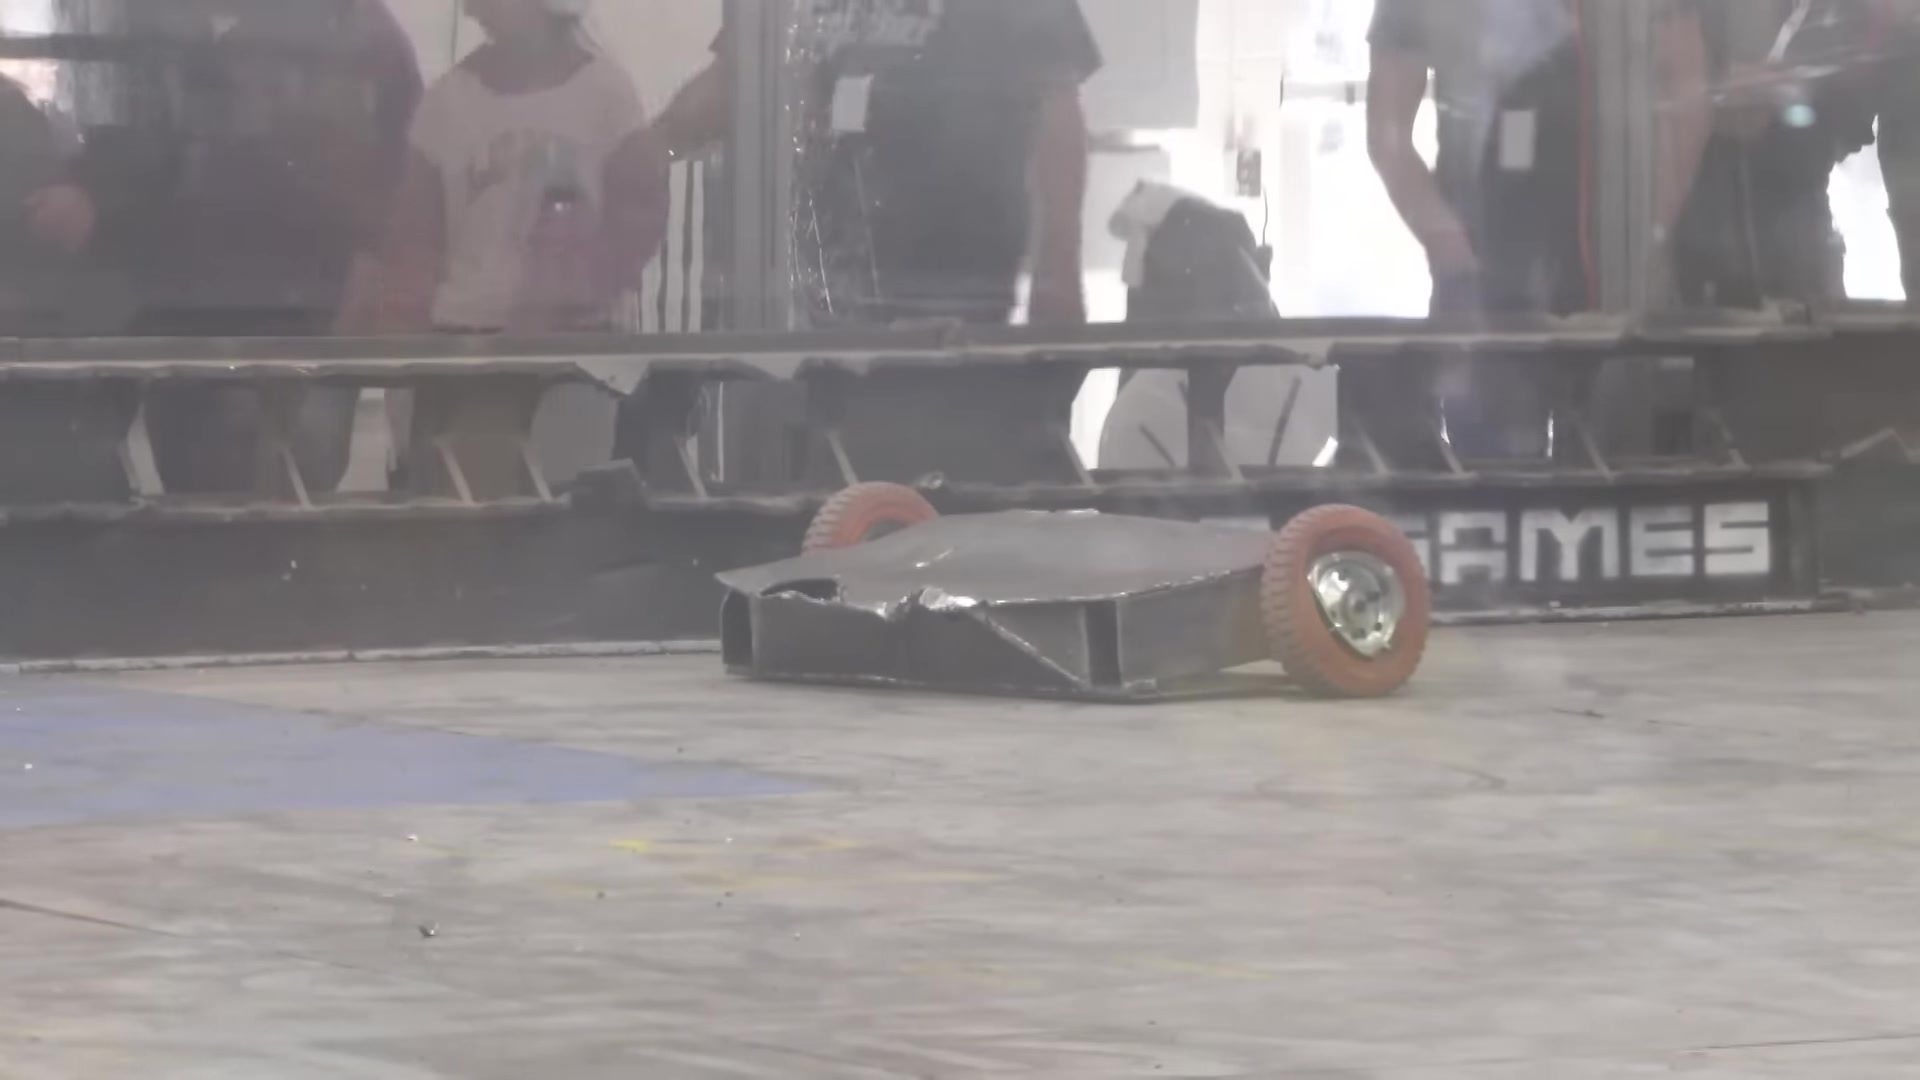combatbot: (711, 477, 1425, 696)
